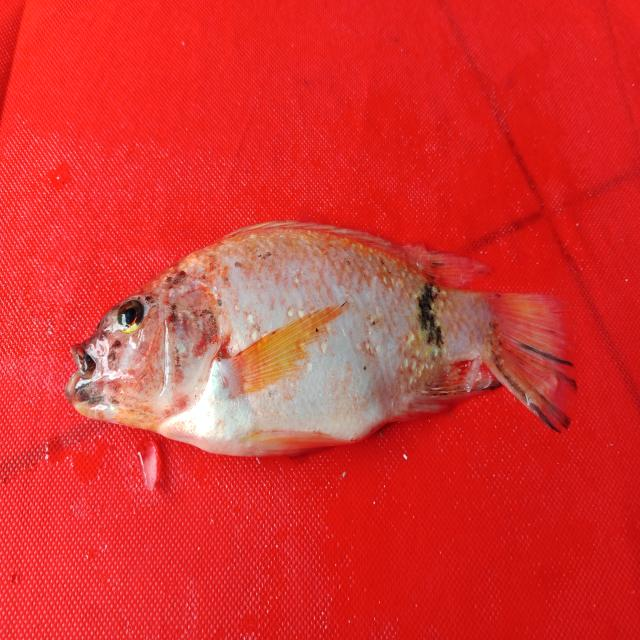ikan: (58, 198, 596, 460)
